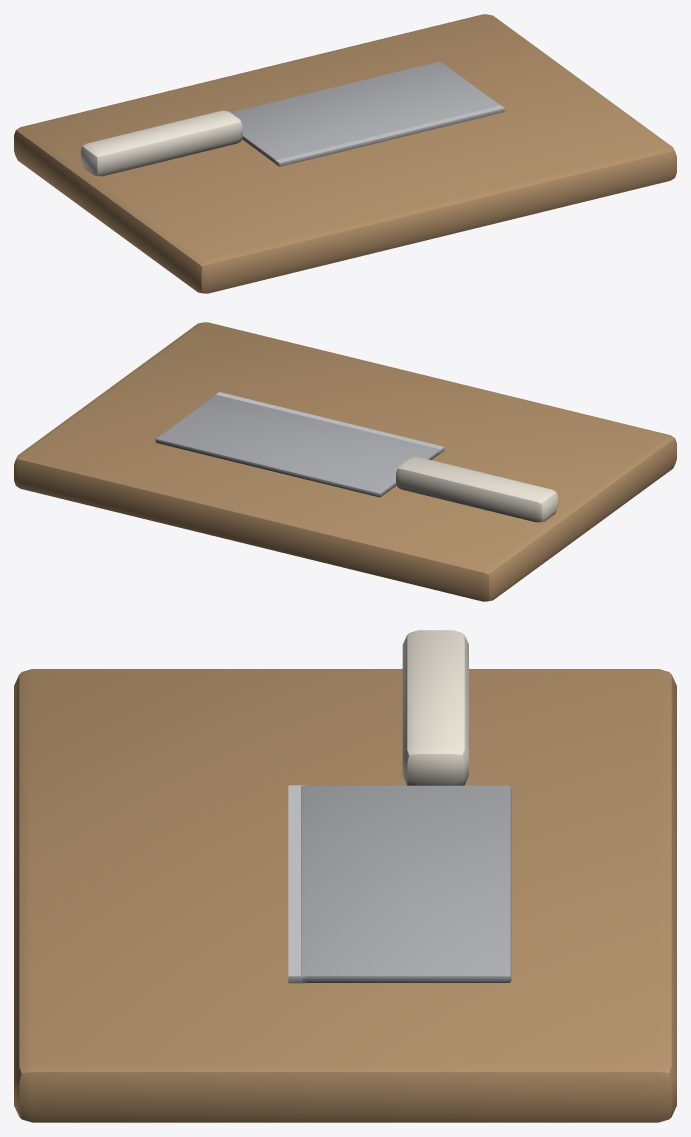
Rendered from cook_board.glb.
The picture shows the model from 3 angles, top to bottom: view 1: azimuth 30°, elevation 25°; view 2: azimuth 150°, elevation 25°; view 3: azimuth 270°, elevation 25°; orthographic projection. The views are drawn at different scales.
Parts seen in each view (by area): view 1: PART; view 2: PART; view 3: PART.
Part boxes in pixels (left/top/right/bottom): PART: left=14, top=14, right=676, bottom=293; PART: left=14, top=322, right=676, bottom=601; PART: left=14, top=630, right=676, bottom=1122.
Size of the model in its own units: 0.32 by 0.038 by 0.22.
